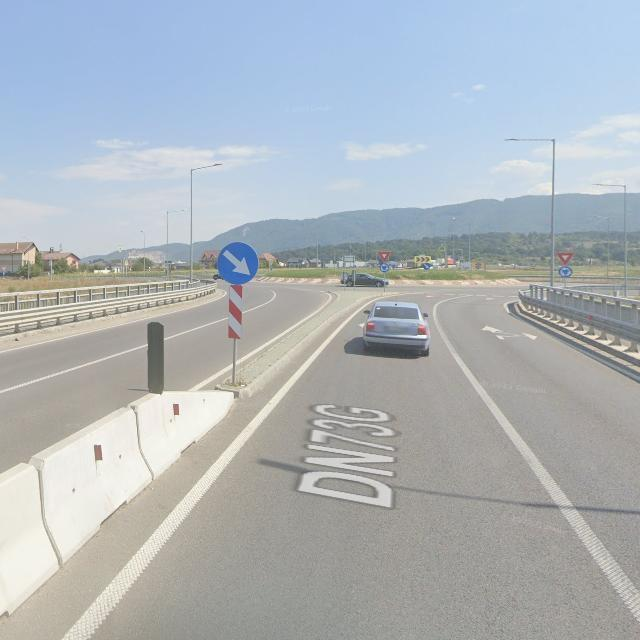prio_give_way: (555, 252, 575, 265), (378, 252, 392, 263)
